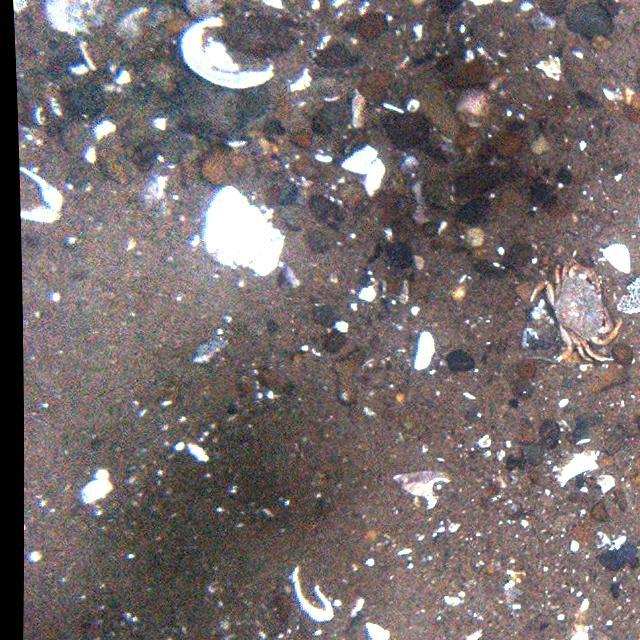crab: (528, 256, 624, 374)
